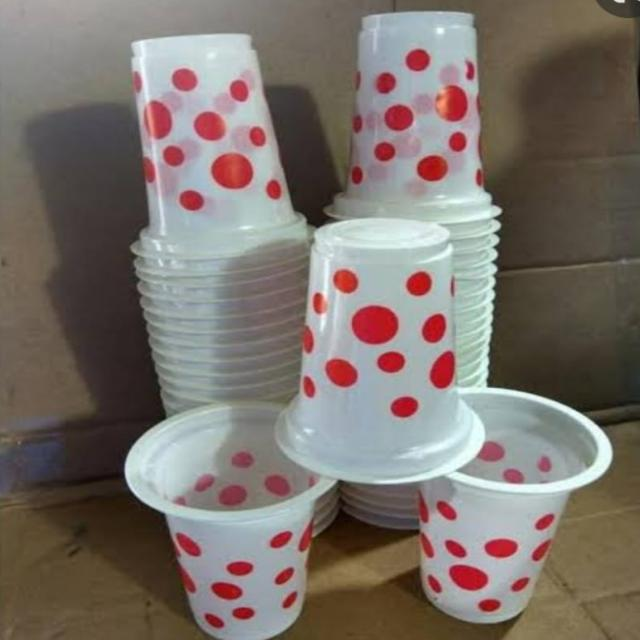GelasPlastik: (102, 25, 328, 411), (305, 8, 530, 383), (273, 216, 494, 488), (123, 396, 343, 640), (394, 376, 598, 622)
